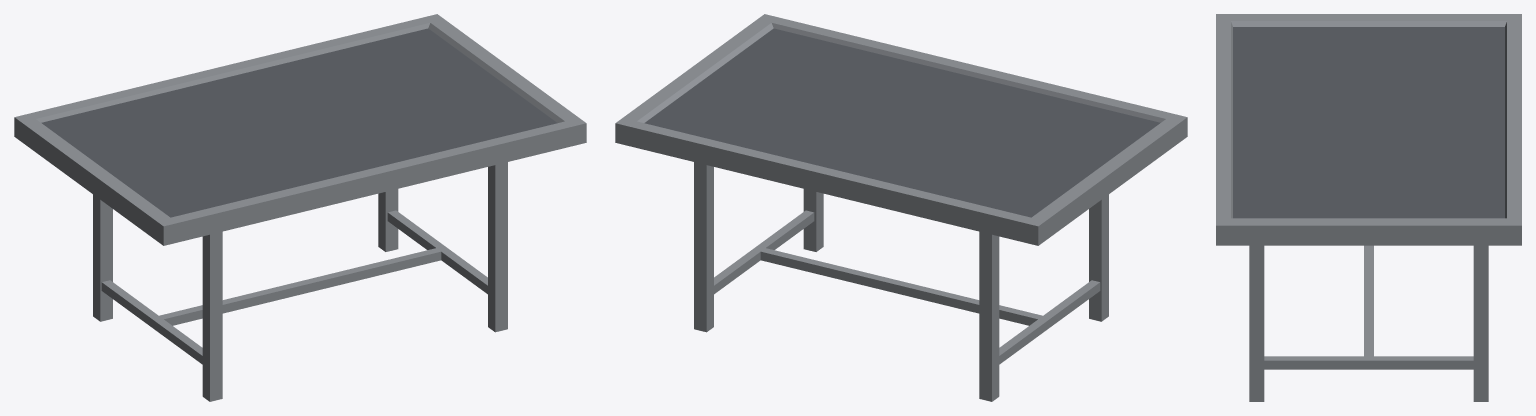
File: Prop_Table_01.glb
The picture shows the model from 3 angles, left to right: view 1: azimuth 30°, elevation 25°; view 2: azimuth 150°, elevation 25°; view 3: azimuth 270°, elevation 25°; orthographic projection. The views are drawn at different scales.
Parts seen in each view (by area): view 1: SM_Prop_Table_01; view 2: SM_Prop_Table_01; view 3: SM_Prop_Table_01.
Boxes of the visible parts, box(x1,y1,x2,y2) form: SM_Prop_Table_01: box(14, 14, 586, 401); SM_Prop_Table_01: box(615, 14, 1187, 401); SM_Prop_Table_01: box(1216, 14, 1521, 401).
Bounding box in the file's own units: 2.12 × 0.9728 × 1.3.
Materials: 1 (1 with a texture image).
